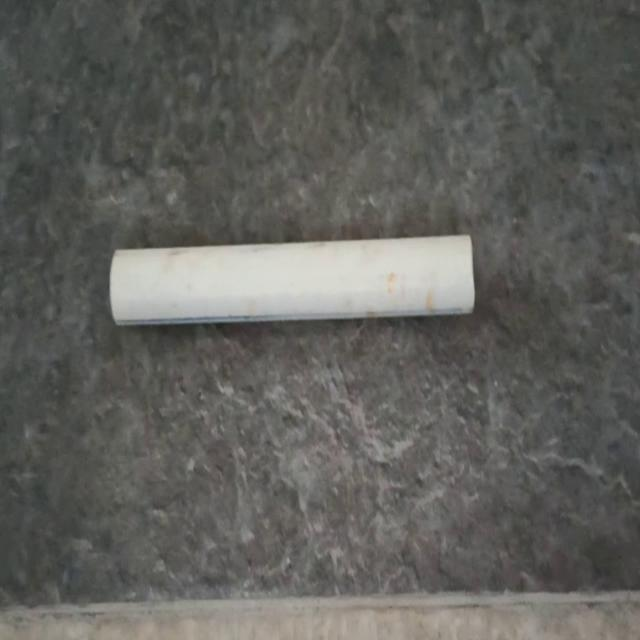Cube: (108, 231, 476, 326)
